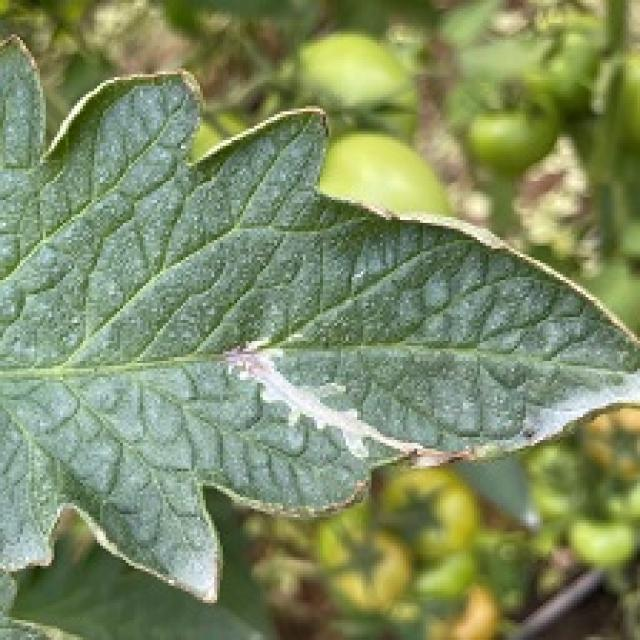Tuta absoluta: (209, 323, 461, 494)
